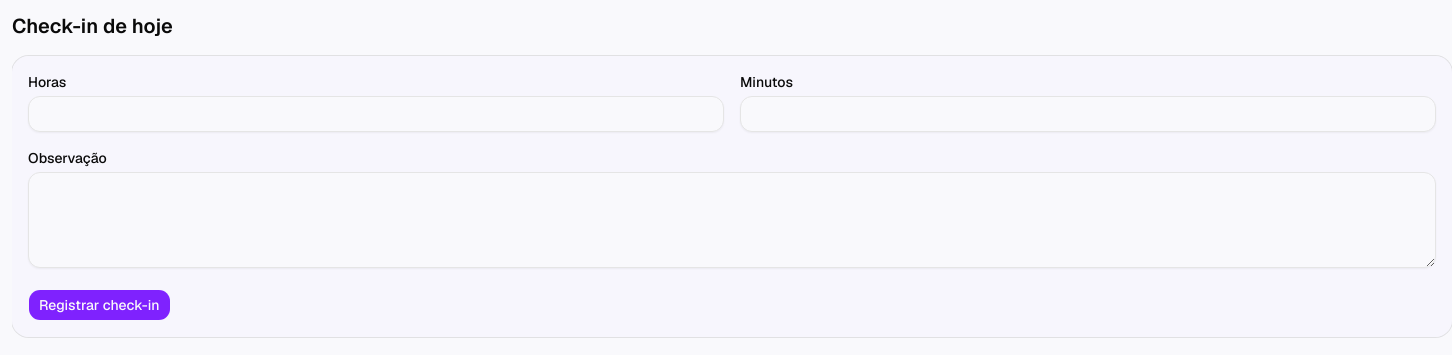
Test case: shows saving progress while a new check-in is pending
Step 1. Click the button "Registrar check-in" → (99, 305), box x1=28 y1=289 x2=171 y2=321
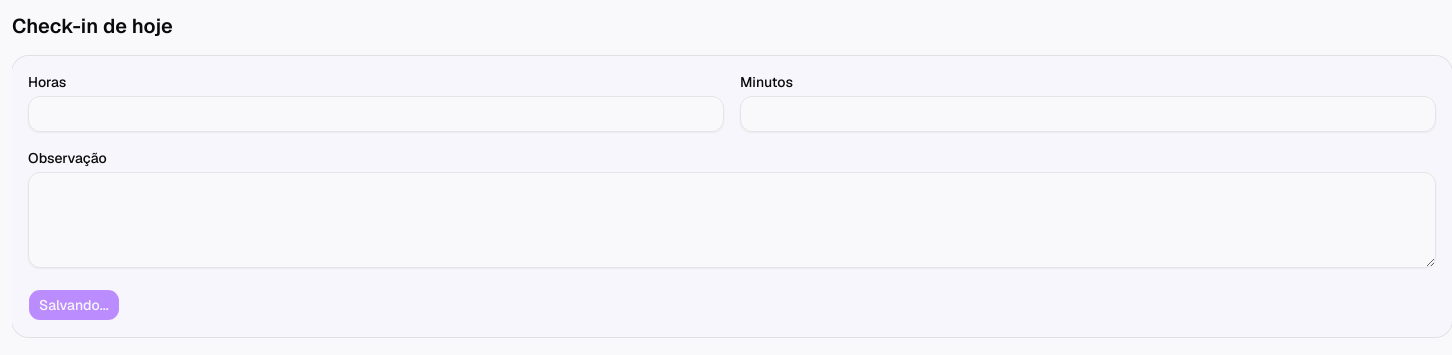
Check: the button "Salvando..." is disabled, box x1=28 y1=289 x2=120 y2=321
